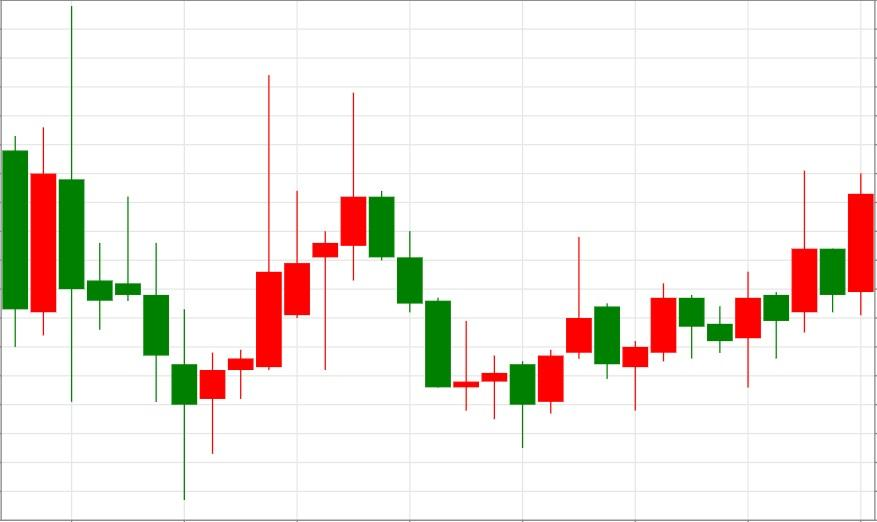three_black_crows_fall: (170, 77, 452, 499)
